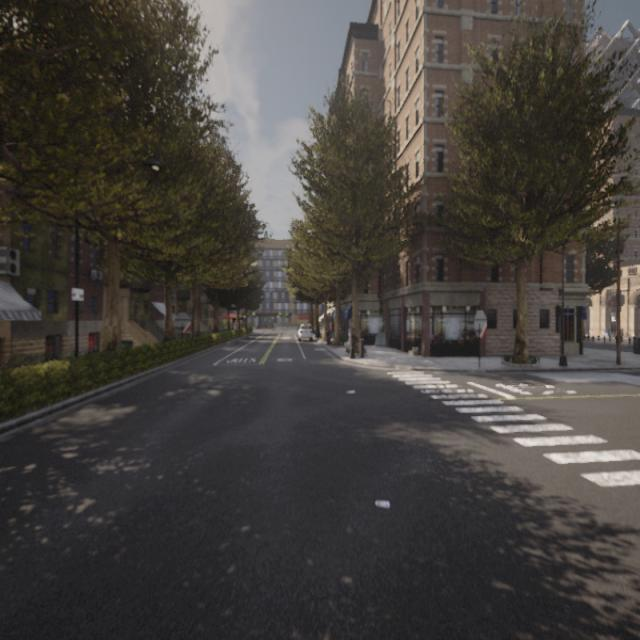stop sign: (471, 305, 490, 369)
